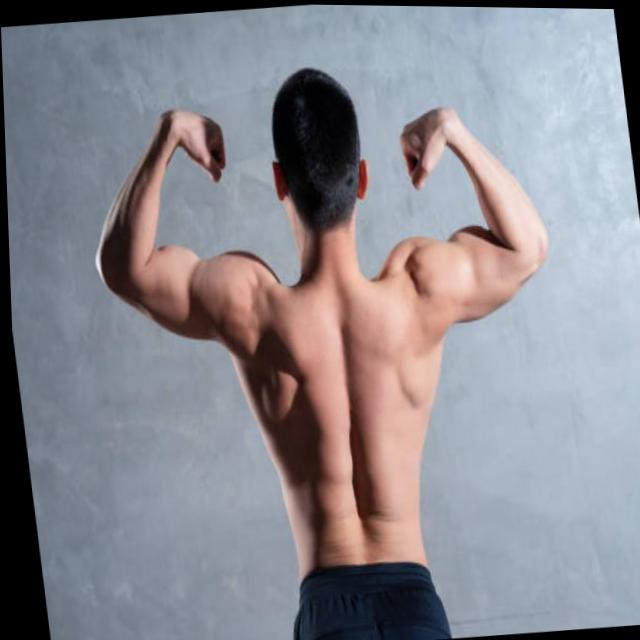no helmet: (259, 55, 377, 255)
